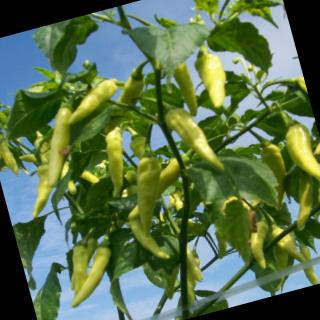Cabai Hijau: (163, 99, 227, 183), (192, 49, 235, 112)
